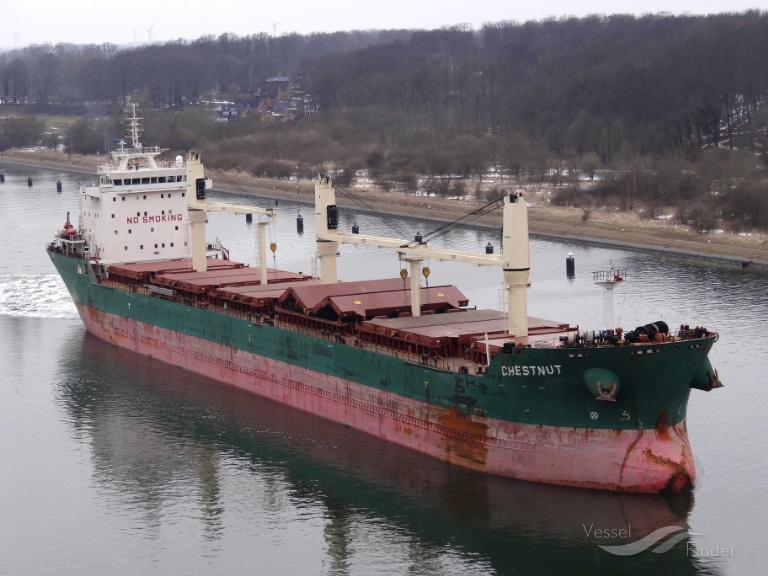OCR: (498, 358, 576, 386)
